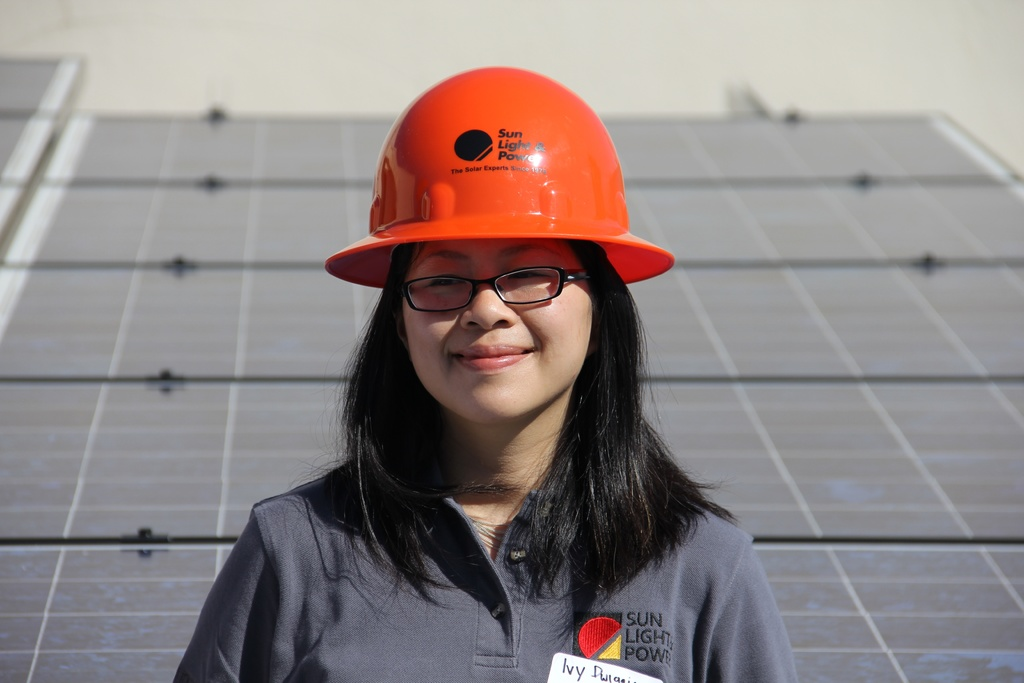Person: (171, 66, 799, 683)
